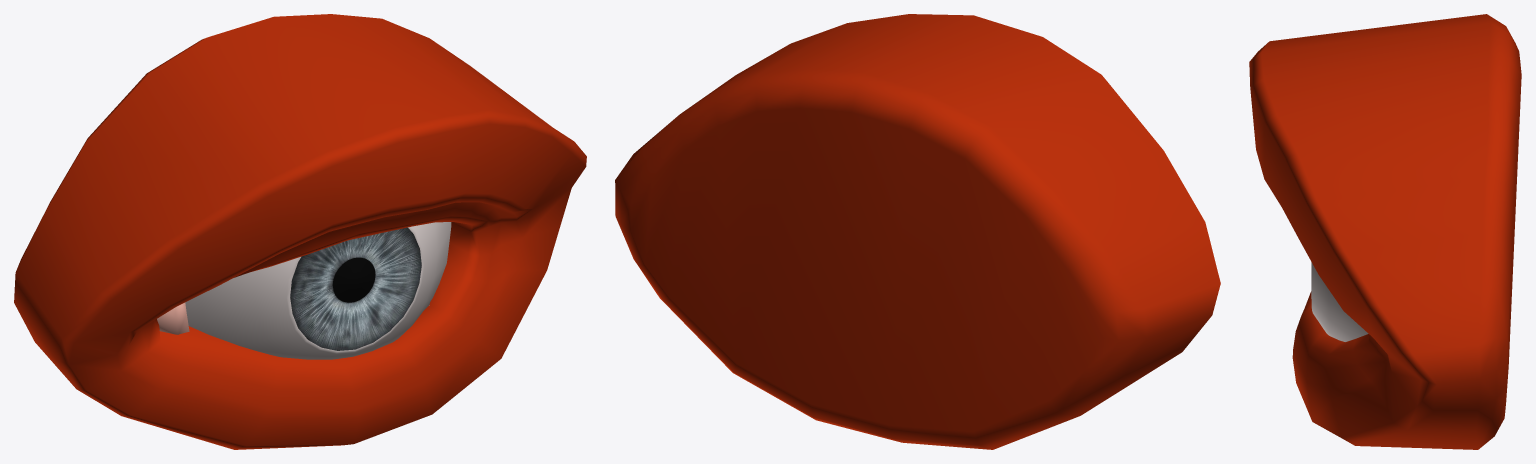
The model's file is Eye.glb.
3 views of the same model, side by side, from view 1: azimuth 30°, elevation 25°; view 2: azimuth 150°, elevation 25°; view 3: azimuth 270°, elevation 25° (orthographic). The views are drawn at different scales.
Visible parts, largest first — view 1: Eye; view 2: Eye; view 3: Eye.
Boxes of the visible parts, left/top/right/bottom form: Eye: left=14, top=14, right=586, bottom=449; Eye: left=615, top=14, right=1220, bottom=449; Eye: left=1249, top=14, right=1521, bottom=449.
Size of the model in its own units: 0.5354 by 0.3363 by 0.231.
Materials: 1 (1 with a texture image).
